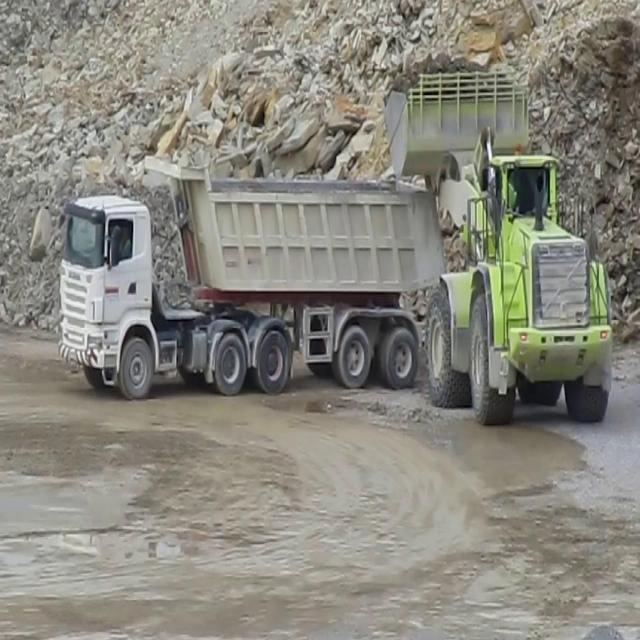Dump Truck: (58, 150, 427, 388)
Loader: (379, 70, 613, 428)
